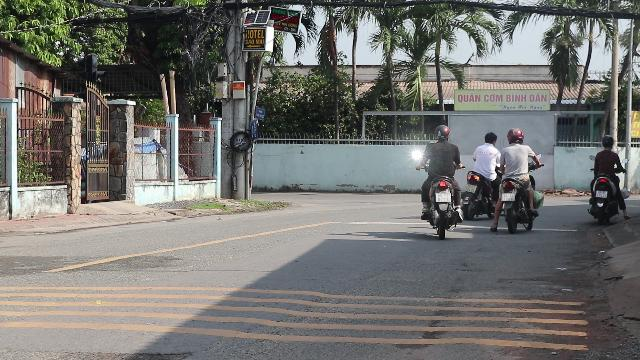helmet: (506, 127, 524, 144), (434, 124, 451, 140)
licenseplate: (435, 192, 451, 202), (501, 193, 515, 201)
motorcyclist: (416, 124, 464, 236), (493, 127, 542, 232)
